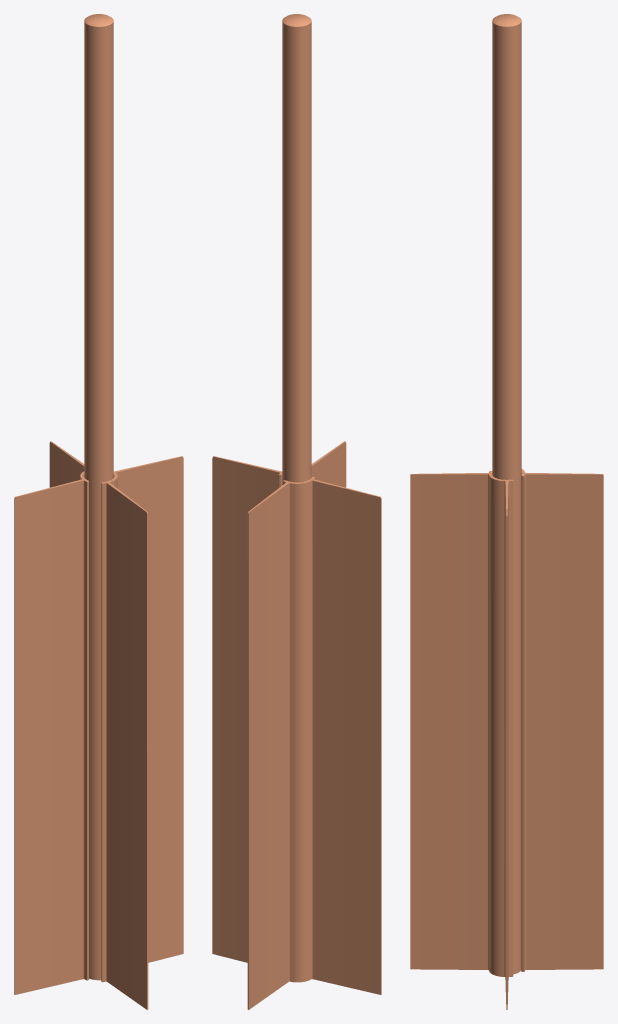
The picture shows the model from 3 angles, left to right: view 1: azimuth 30°, elevation 25°; view 2: azimuth 150°, elevation 25°; view 3: azimuth 270°, elevation 25°; orthographic projection.
Parts seen in each view (by area): view 1: Cube.006, Cylinder.010; view 2: Cube.006, Cylinder.010; view 3: Cube.006, Cylinder.010.
Part boxes in pixels (x1,y1,x2,y2): Cube.006: (14,441,183,1009); Cylinder.010: (84,14,113,980); Cube.006: (212,441,381,1009); Cylinder.010: (282,14,311,484); Cube.006: (410,469,603,1009); Cylinder.010: (492,14,521,974).
Bounding box in the file's own units: 0.9467 × 5.13 × 0.9467.
